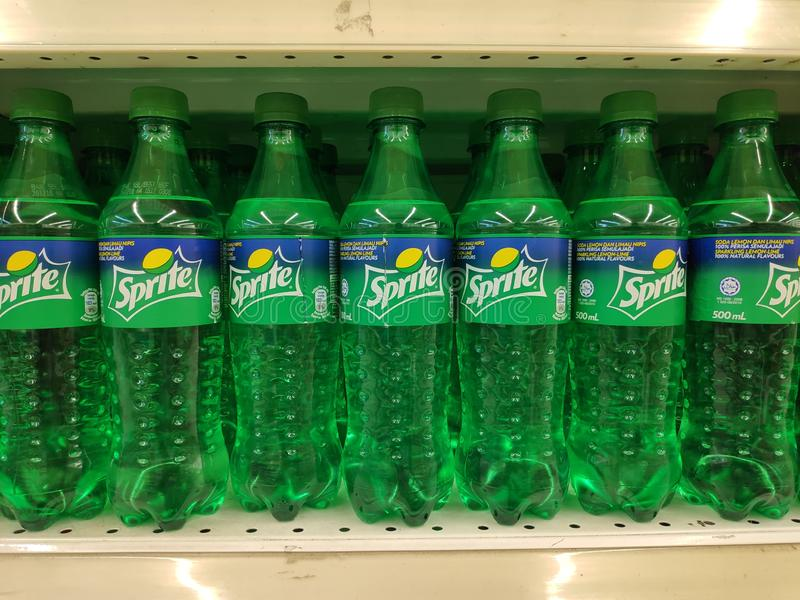sprite: (114, 263, 199, 313), (364, 259, 442, 313), (464, 259, 542, 311), (618, 261, 685, 311), (1, 260, 64, 313), (230, 261, 296, 311)
